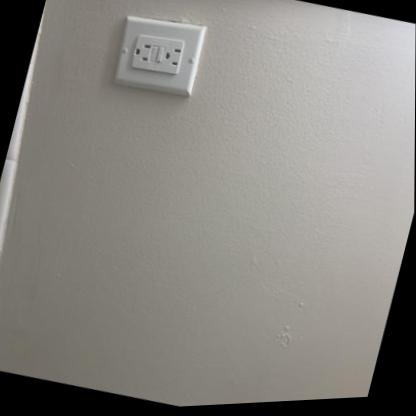OUTLET: (111, 8, 208, 101)
